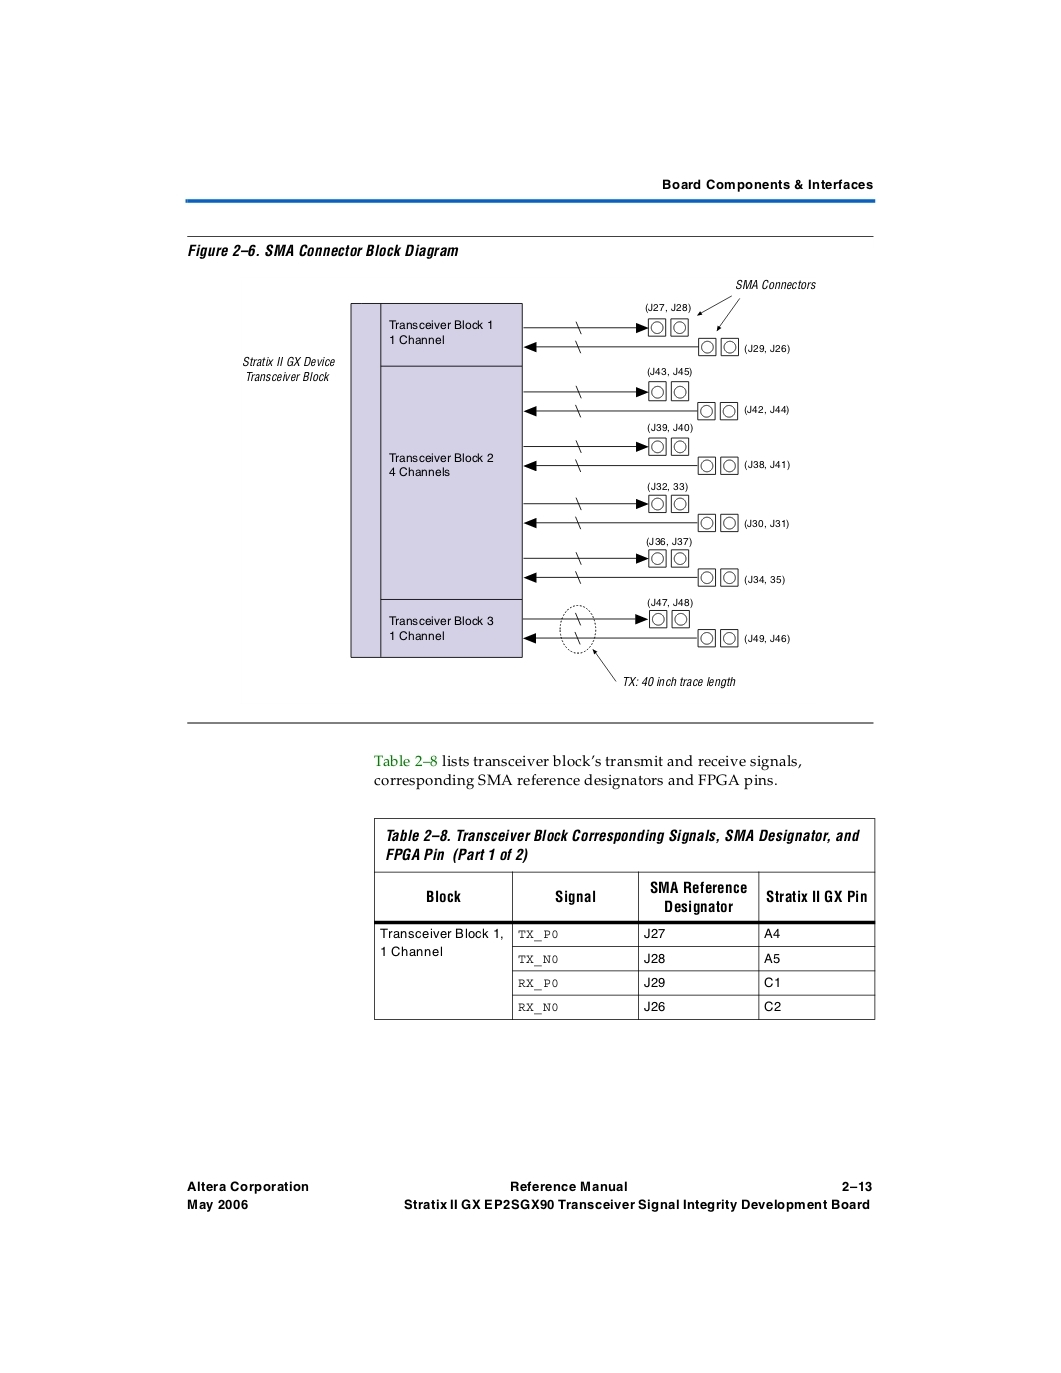Table: (374, 817, 875, 1020)
figure: (243, 279, 815, 688)
